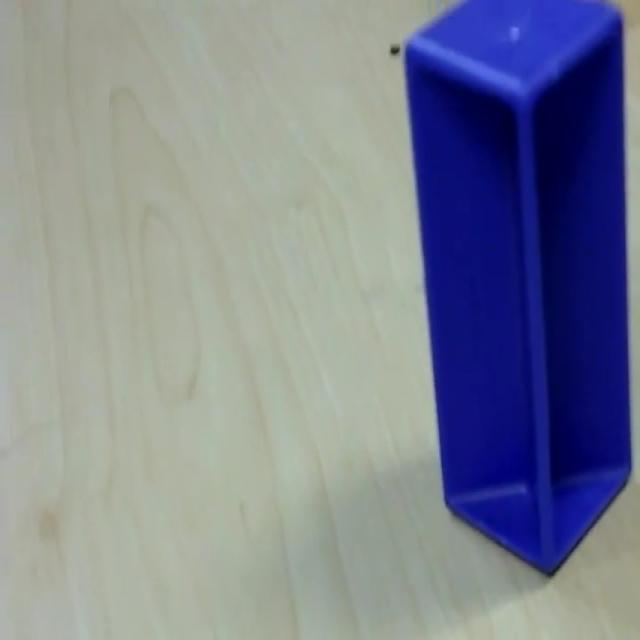blue_block: (399, 0, 633, 576)
